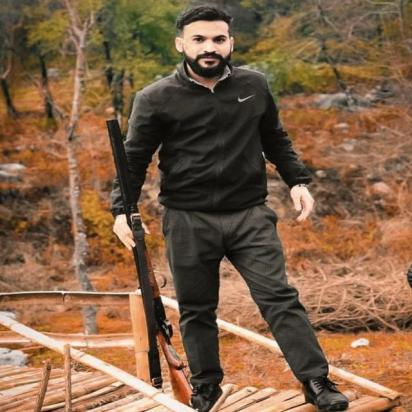Gun: (104, 119, 196, 408)
